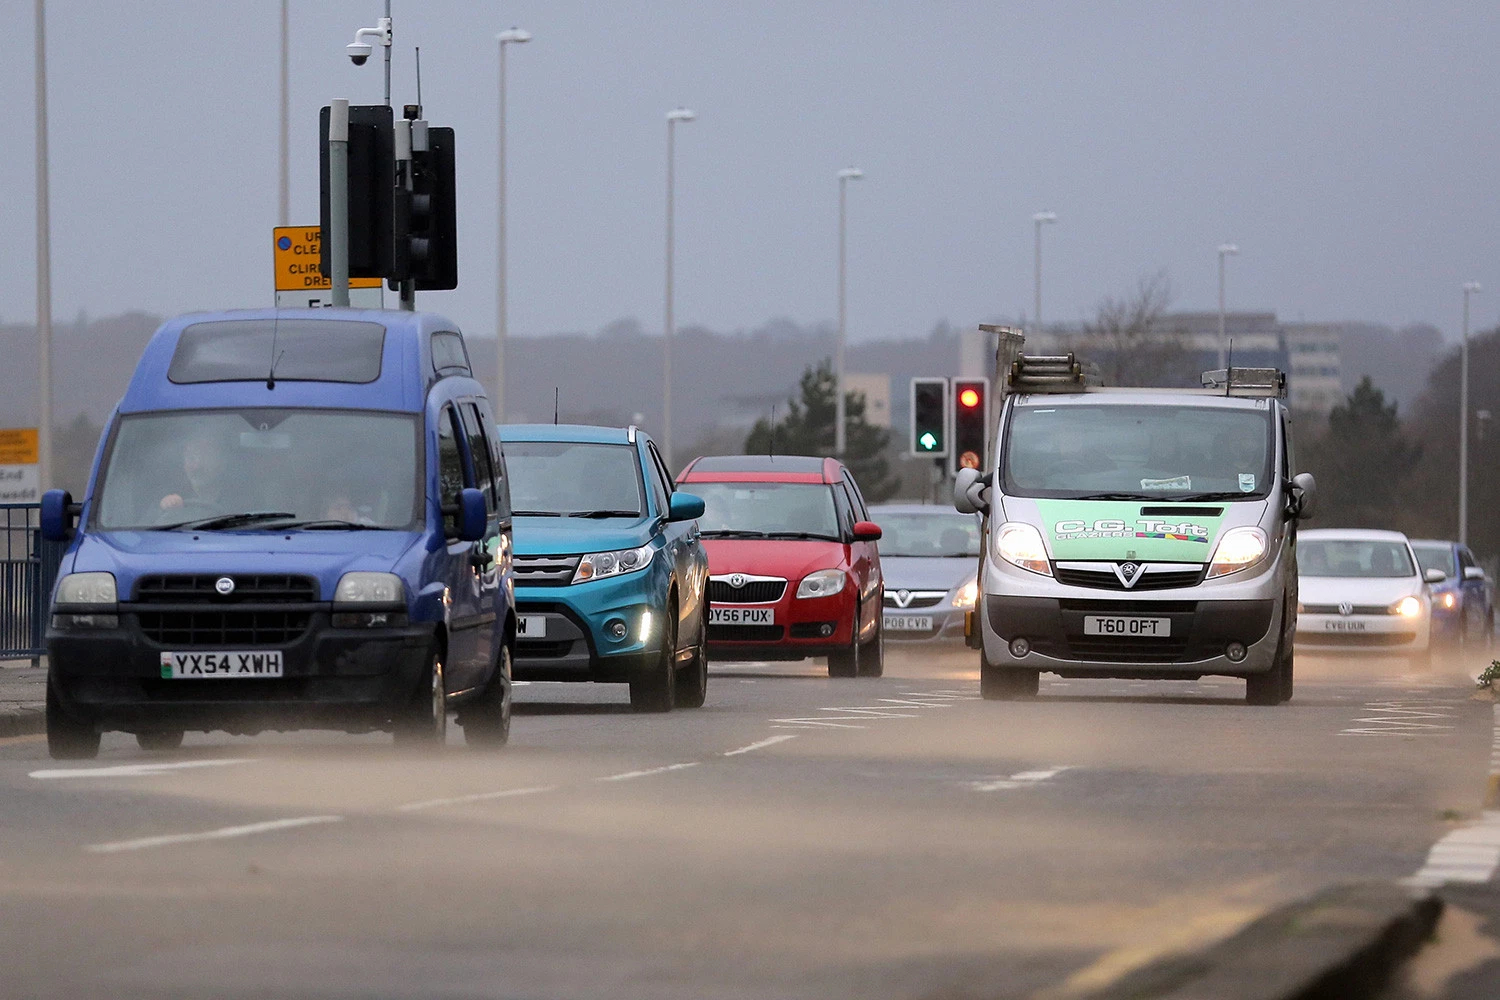car: (46, 304, 511, 759), (493, 414, 708, 715), (679, 456, 884, 666), (1296, 529, 1430, 647), (871, 498, 979, 636), (1410, 540, 1489, 631)
truck: (944, 336, 1311, 700)
